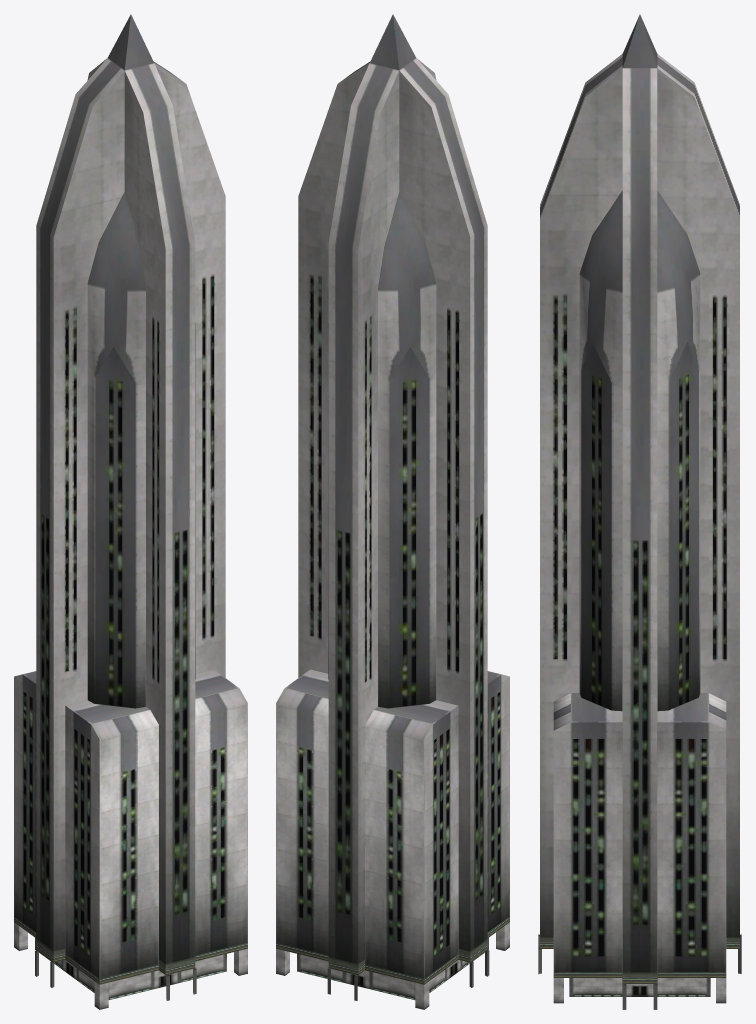
The model's file is thm_corl_skyskraper_s01_l3.fbx.
3 renders of one model, left to right at view 1: azimuth 30°, elevation 25°; view 2: azimuth 150°, elevation 25°; view 3: azimuth 270°, elevation 25°, orthographic.
Visible parts, largest first — view 1: mesh_node; view 2: mesh_node; view 3: mesh_node.
Boxes of the visible parts, <box> form: mesh_node: <box>14,14,247,1009</box>; mesh_node: <box>276,14,509,1009</box>; mesh_node: <box>538,14,741,1009</box>.
Size of the model in its own units: 40.74 by 210 by 40.74.
